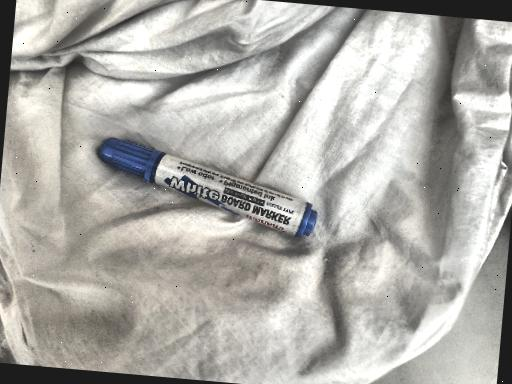marcador azul: (99, 138, 317, 237)
